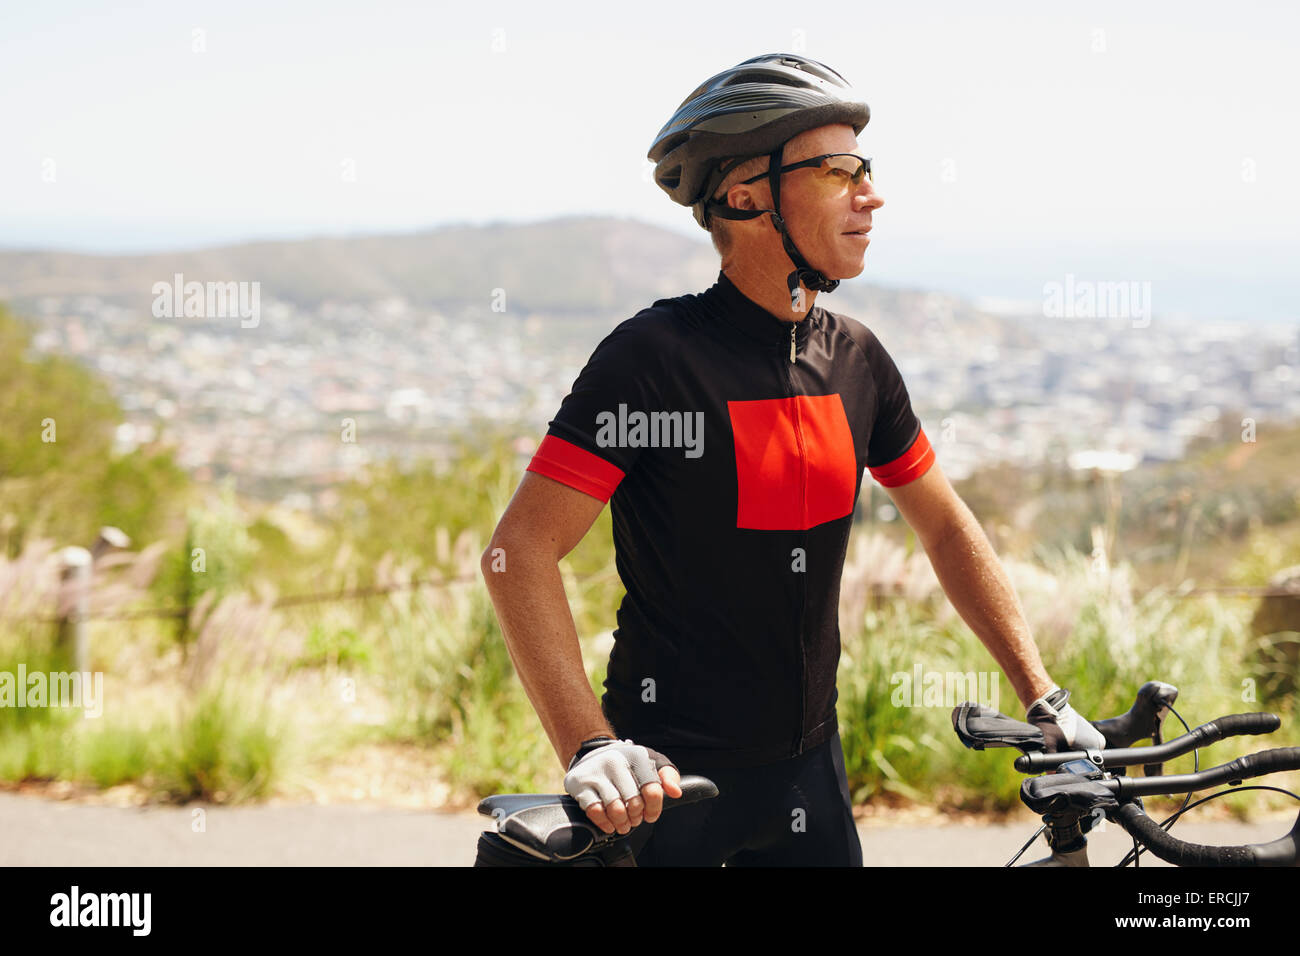helmet: (648, 52, 885, 280)
